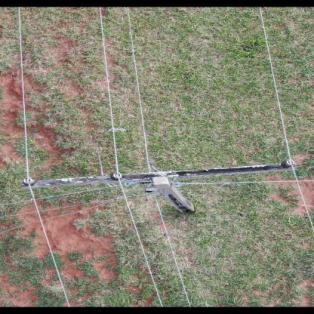Poste: (148, 178, 203, 218)
